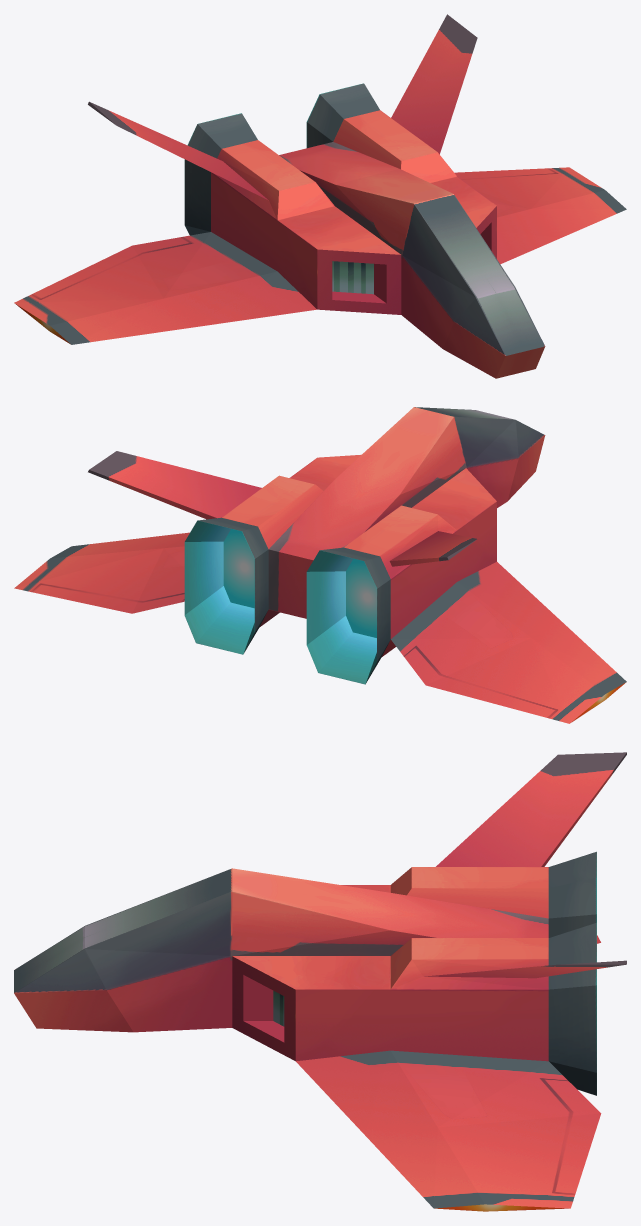
Rendered from low_poly_ship.obj.
The picture shows the model from 3 angles, top to bottom: view 1: azimuth 30°, elevation 25°; view 2: azimuth 150°, elevation 25°; view 3: azimuth 270°, elevation 25°; orthographic projection. The views are drawn at different scales.
Visible parts, largest first — view 1: ship_Cube.001; view 2: ship_Cube.001; view 3: ship_Cube.001.
Part boxes in pixels (x1=…): ship_Cube.001: x1=14, y1=14, x2=626, y2=378; ship_Cube.001: x1=14, y1=407, x2=626, y2=723; ship_Cube.001: x1=14, y1=752, x2=626, y2=1211.
Bounding box in the file's own units: 4.83 × 1.35 × 3.87.
